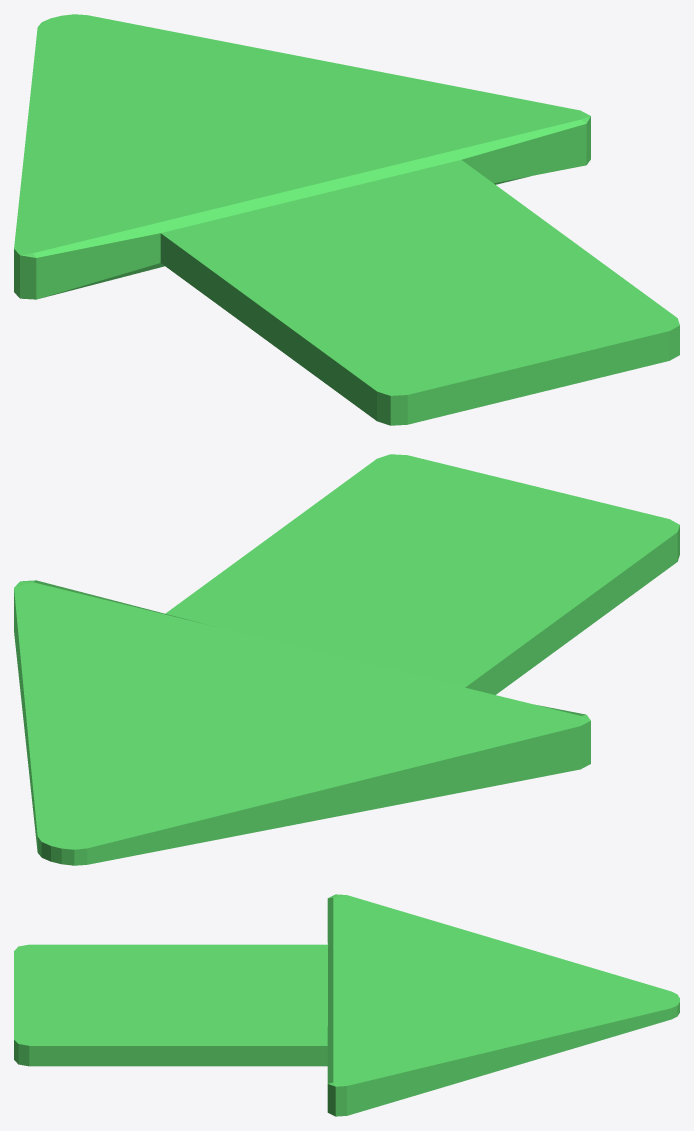
The picture shows the model from 3 angles, top to bottom: view 1: azimuth 30°, elevation 25°; view 2: azimuth 150°, elevation 25°; view 3: azimuth 270°, elevation 25°; orthographic projection. The views are drawn at different scales.
Parts seen in each view (by area): view 1: Cube; view 2: Cube; view 3: Cube.
Boxes of the visible parts, x1=… form: Cube: x1=14, y1=14, x2=679, y2=425; Cube: x1=14, y1=454, x2=679, y2=865; Cube: x1=14, y1=894, x2=679, y2=1116.
Size of the model in its own units: 226 by 16.8 by 330.
